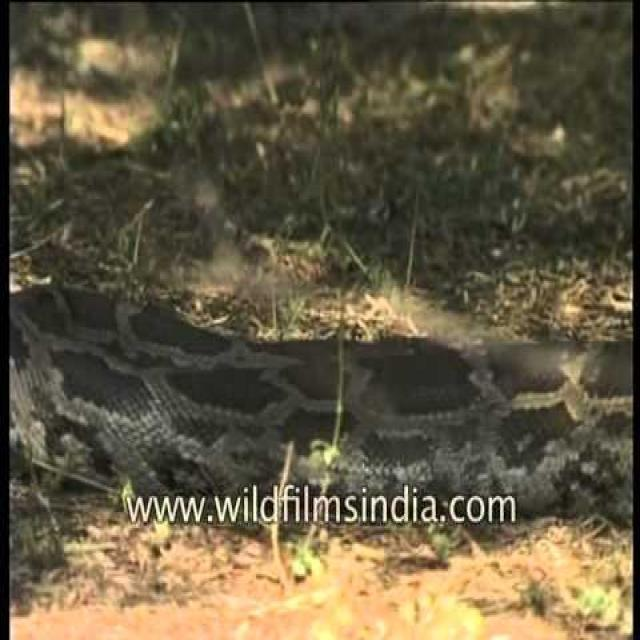Snake: (9, 280, 632, 530)
